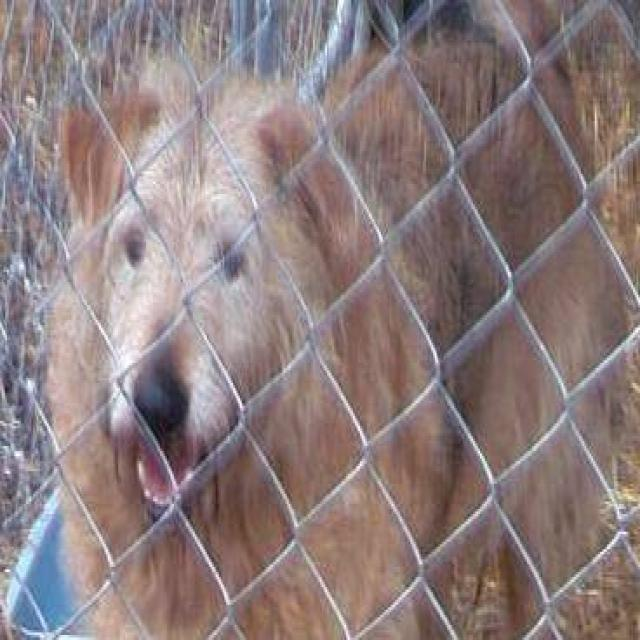dog: (38, 0, 638, 637)
